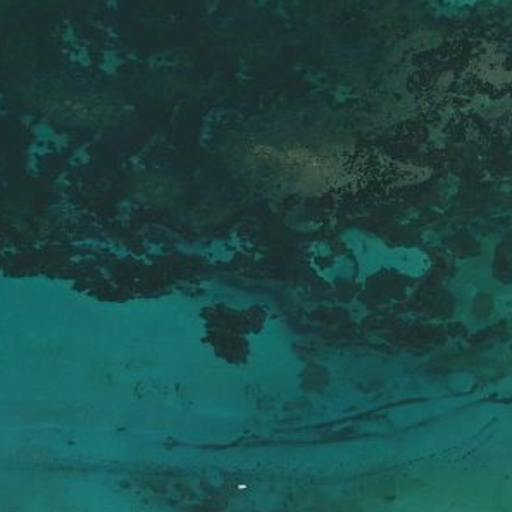ship: (235, 483, 249, 491)
